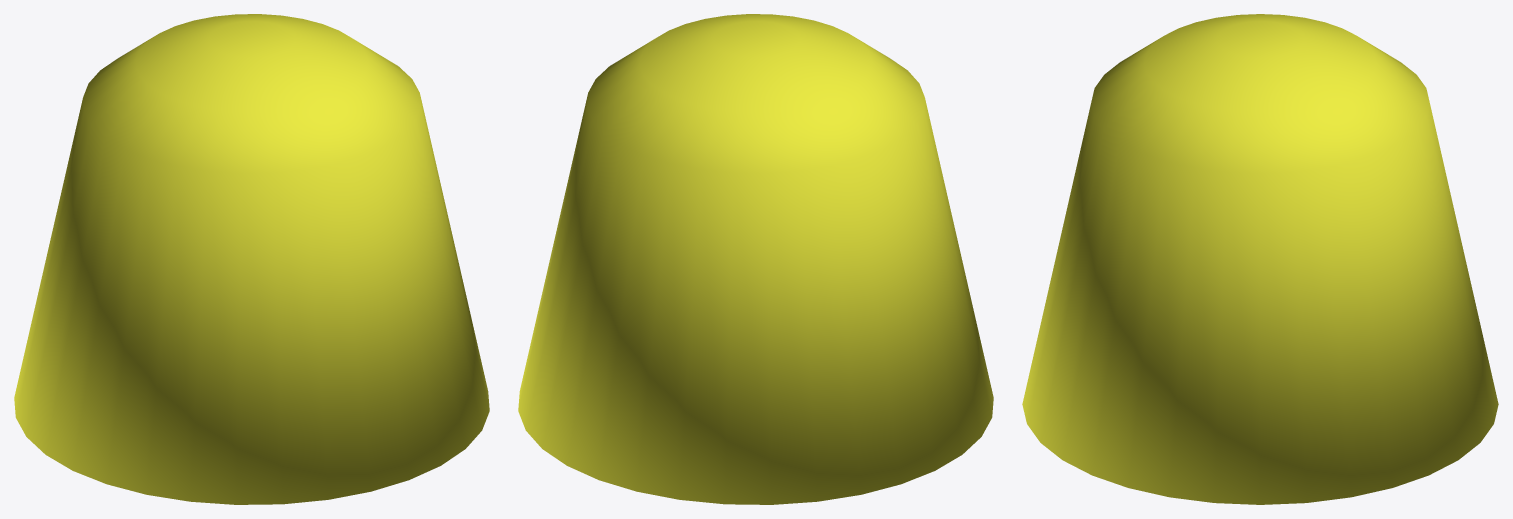
The model's file is GumdropYellow.fbx.
The picture shows the model from 3 angles, left to right: view 1: azimuth 30°, elevation 25°; view 2: azimuth 150°, elevation 25°; view 3: azimuth 270°, elevation 25°; orthographic projection.
Parts seen in each view (by area): view 1: Cylinder; view 2: Cylinder; view 3: Cylinder.
Part boxes in pixels (x1,y1,x2,y2): Cylinder: (14, 14, 489, 504); Cylinder: (518, 14, 993, 504); Cylinder: (1022, 14, 1498, 504).
Bounding box in the file's own units: 237 × 200 × 237.
